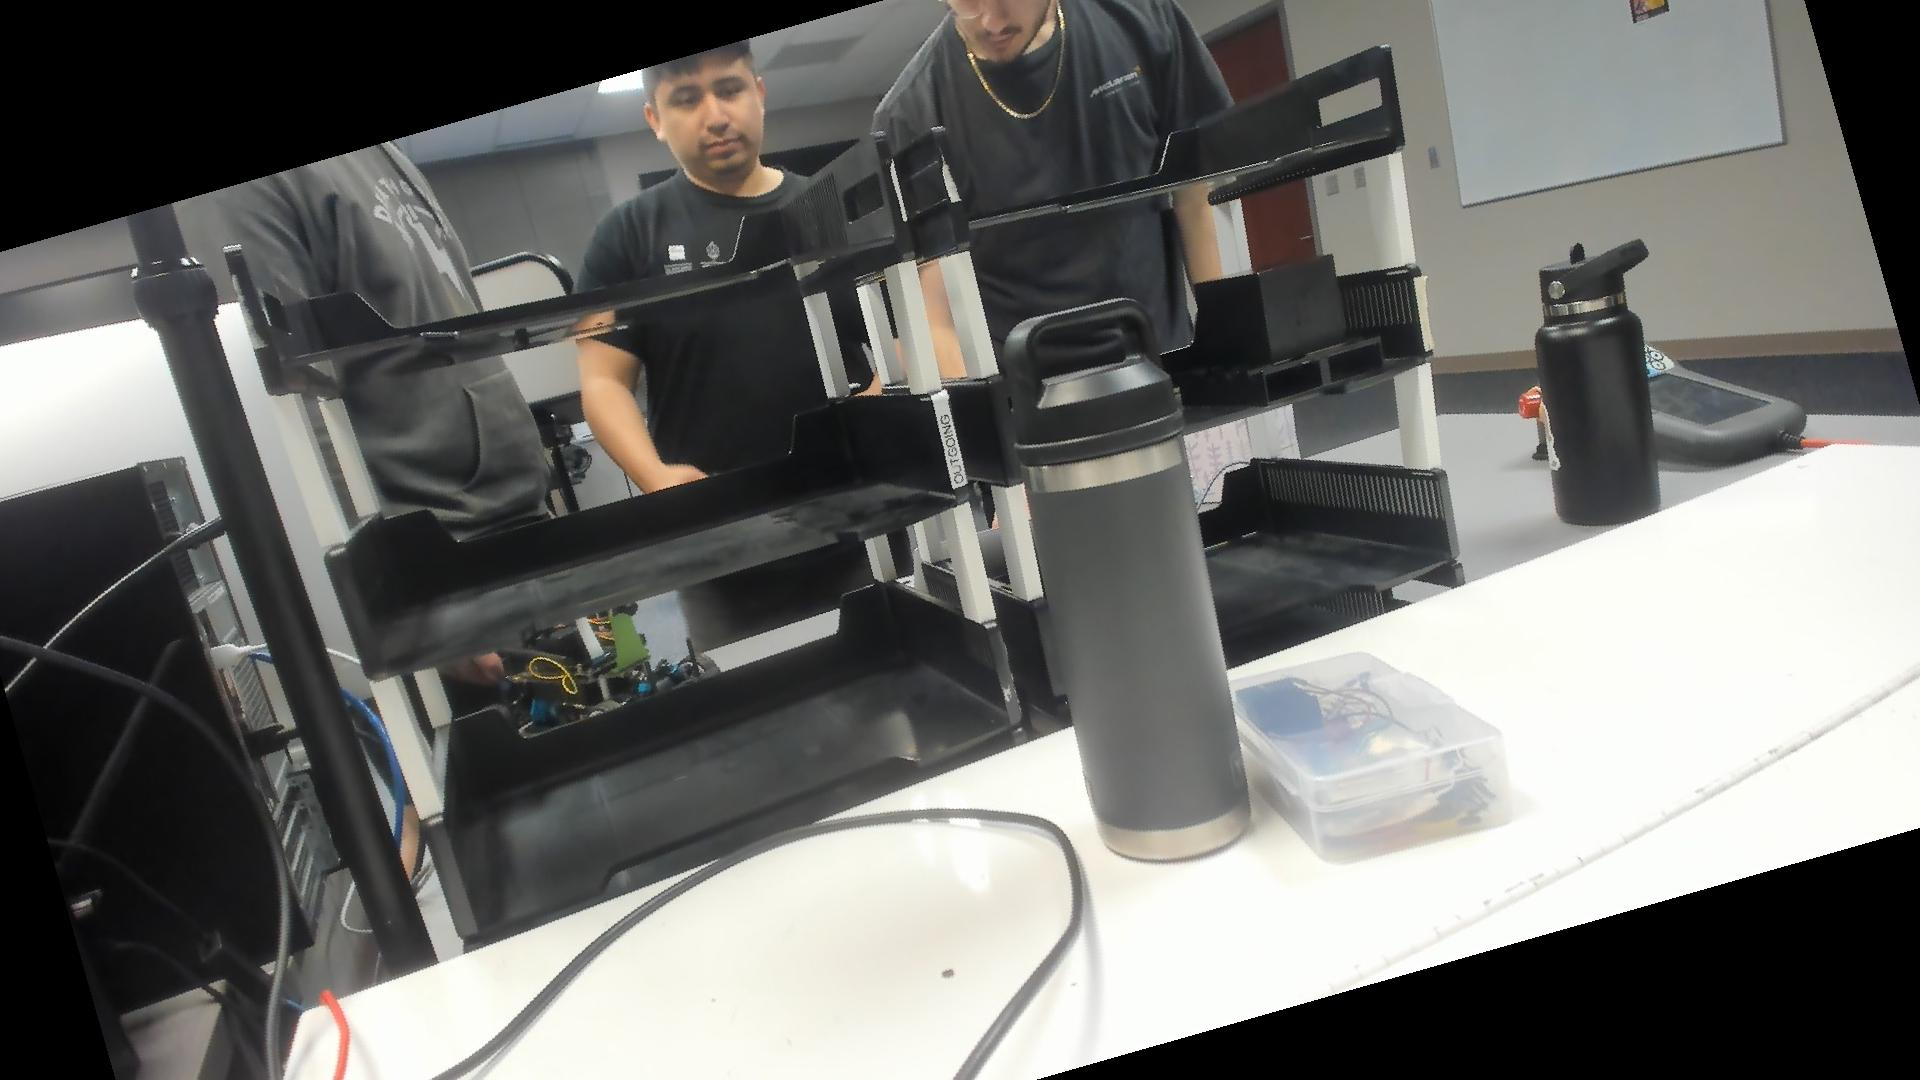black pallet: (1178, 251, 1391, 413)
